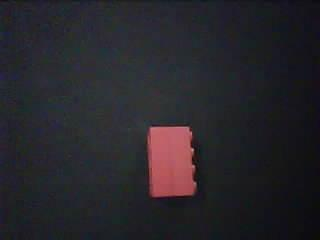lego: (146, 126, 199, 198)
